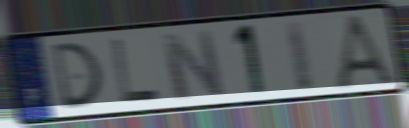1: (229, 22, 268, 99)
A: (334, 12, 403, 90)
D: (48, 40, 104, 113)
I: (282, 18, 316, 95)
L: (109, 37, 163, 106)
N: (158, 29, 228, 103)
